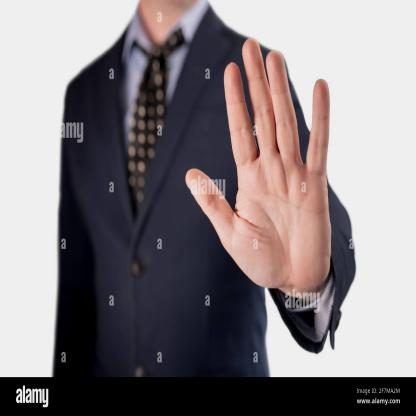Stop: (190, 37, 334, 302)
